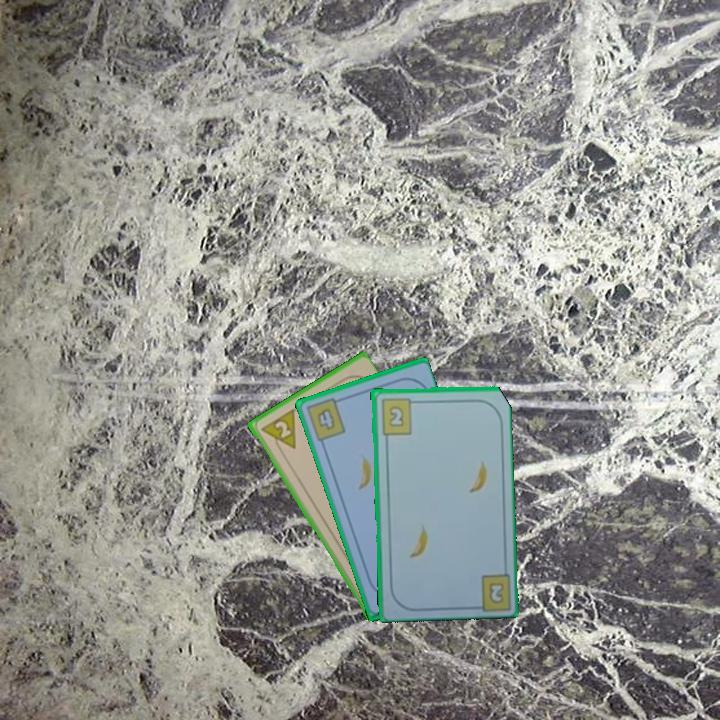2b: (378, 394, 419, 437), (485, 579, 507, 606)
2p: (257, 406, 299, 457)
4b: (302, 394, 348, 444)
